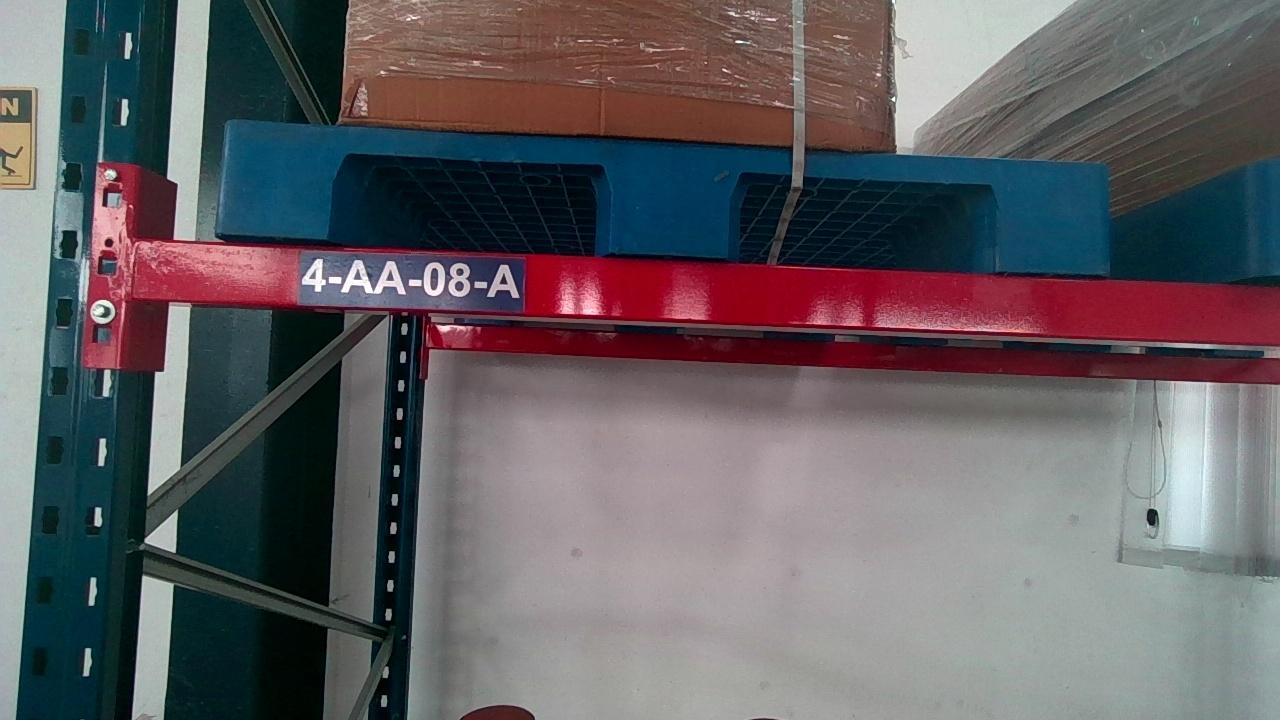h_rack: (121, 237, 1280, 349)
orange_strip: (3, 108, 33, 189)
small_pallet: (210, 136, 1123, 256)
